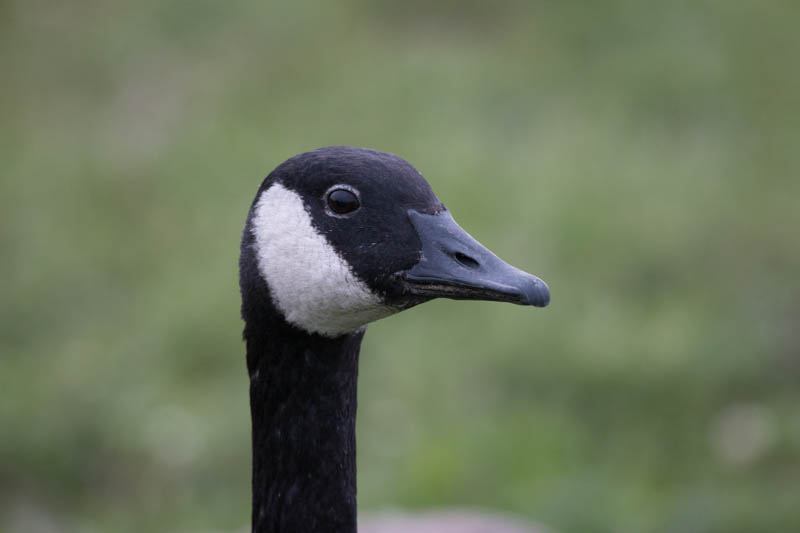goose-head: (238, 146, 553, 339)
